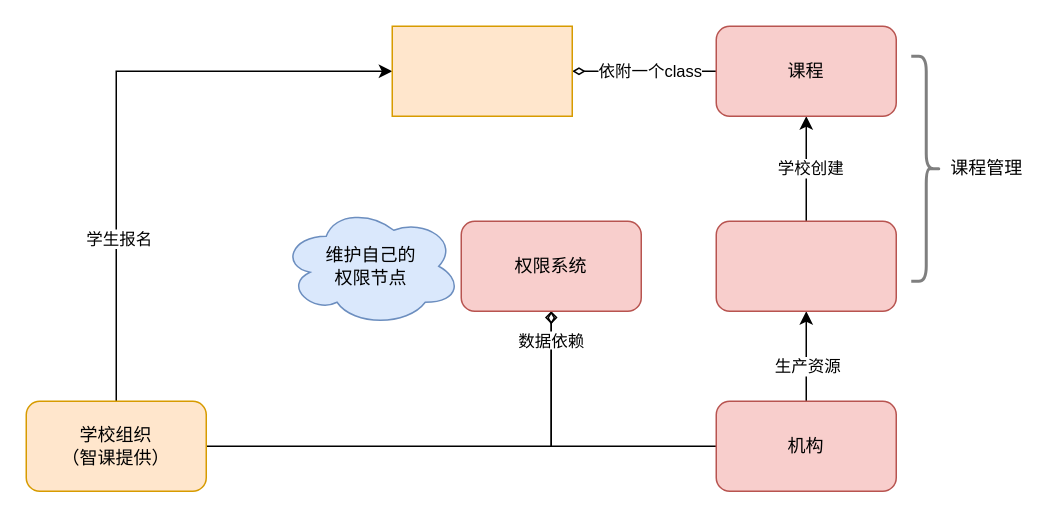
This 1058x518 diagram has some shape labels left out. The centre of each missing label's shape, as x and y in pixels:
课班 （智课提供的class）: (x=481, y=70)
课程资源: (x=805, y=265)
